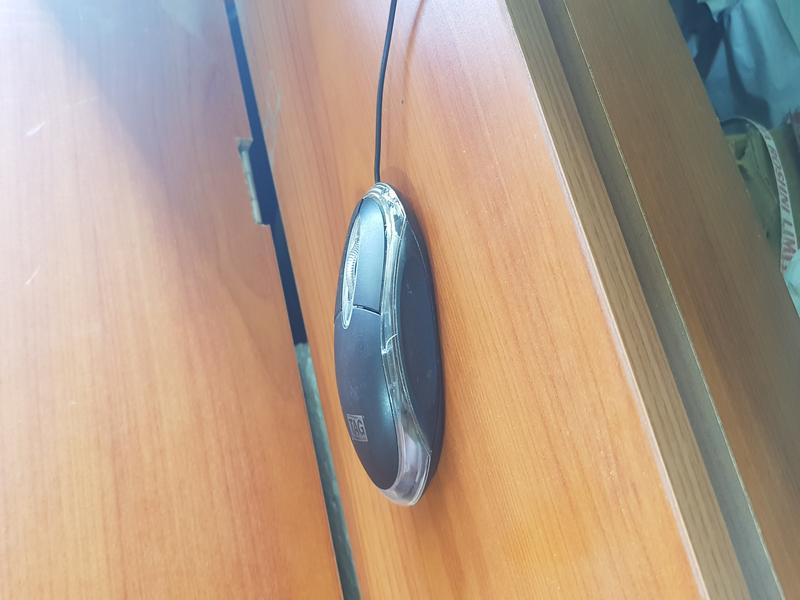mouse: (302, 167, 500, 522)
